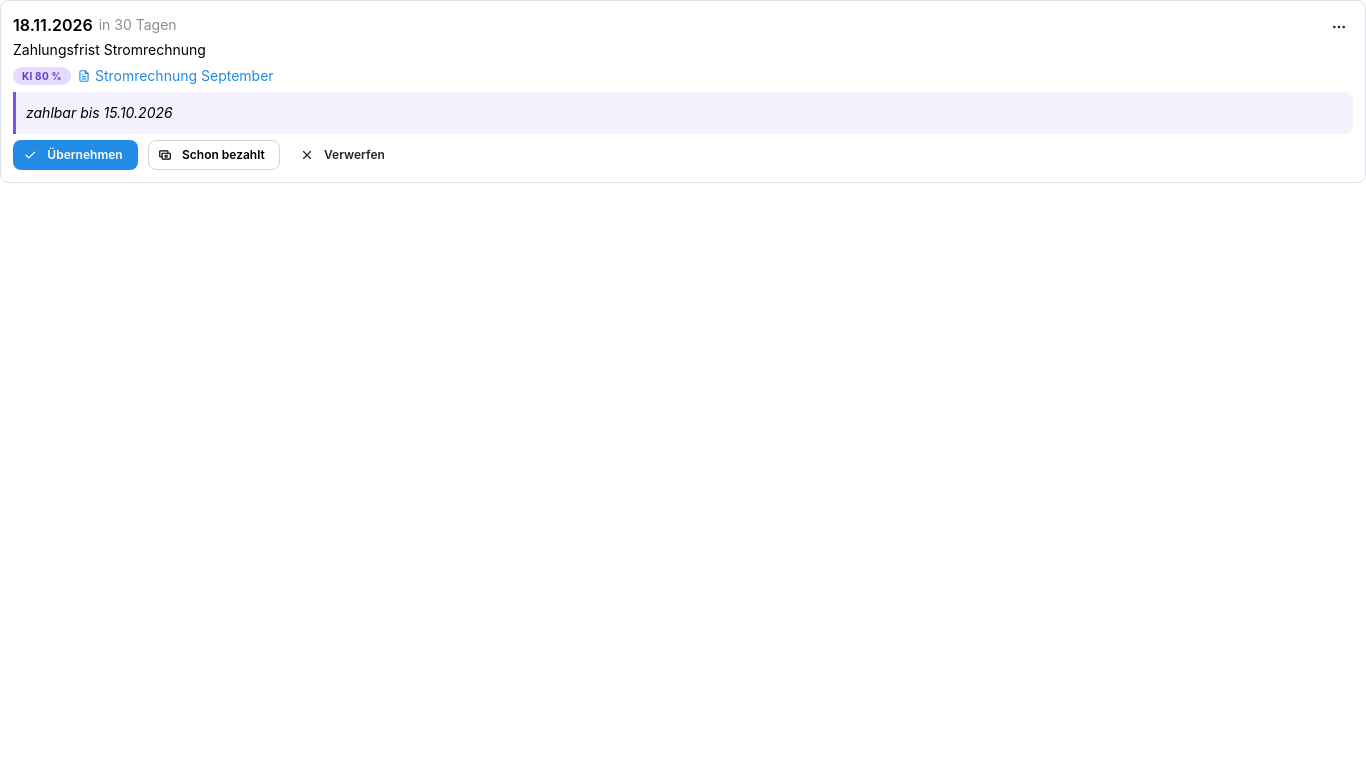
WiedervorlageCard › KI-Vorschlag zeigt Fundstelle und laesst sich uebernehmen
Check: the text "zahlbar bis 15.10.2026" is shown, box [13,92,1353,134]
Check: the text "Stromrechnung September" is shown, box [77,66,274,86]
Click the button "Übernehmen". click: {"x": 75, "y": 155}
box: [13,140,138,170]
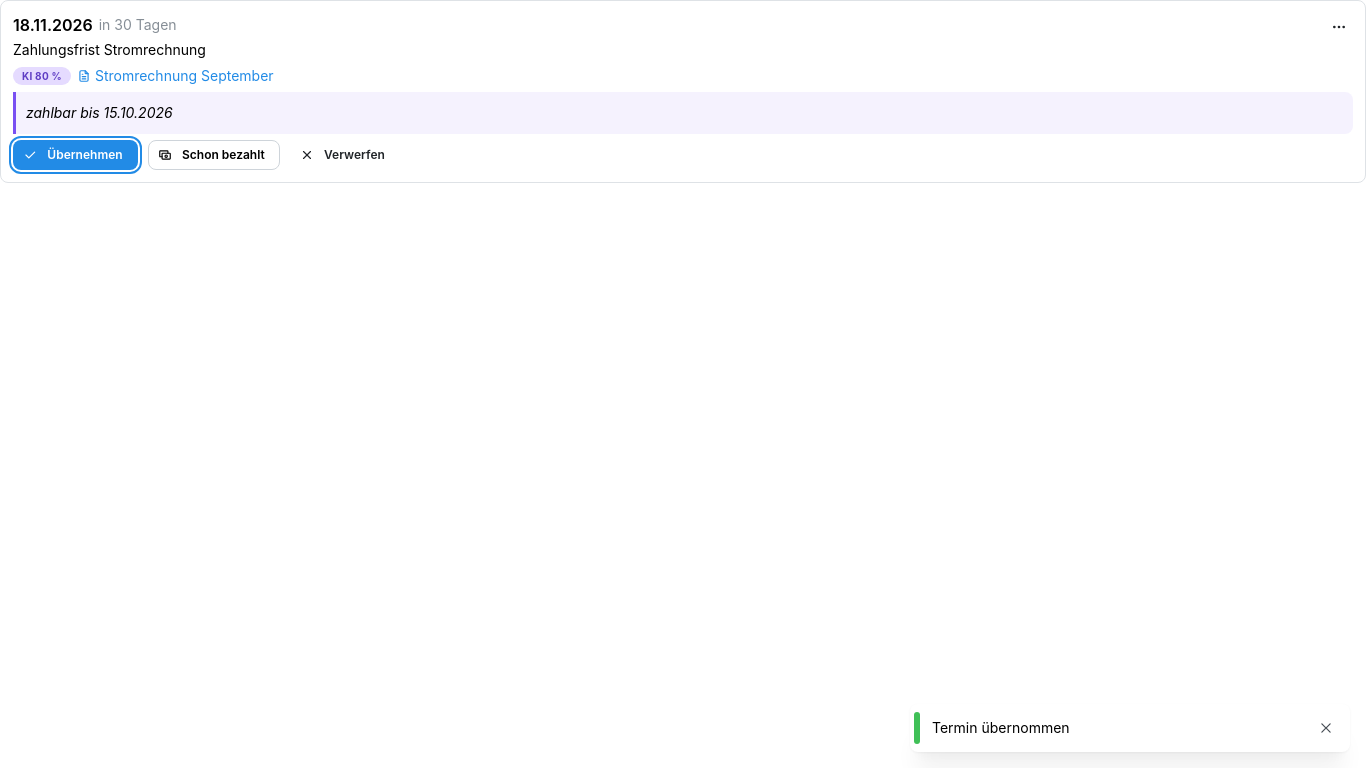
Check: the text "Termin übernommen" is shown, box [932,719,1070,736]
